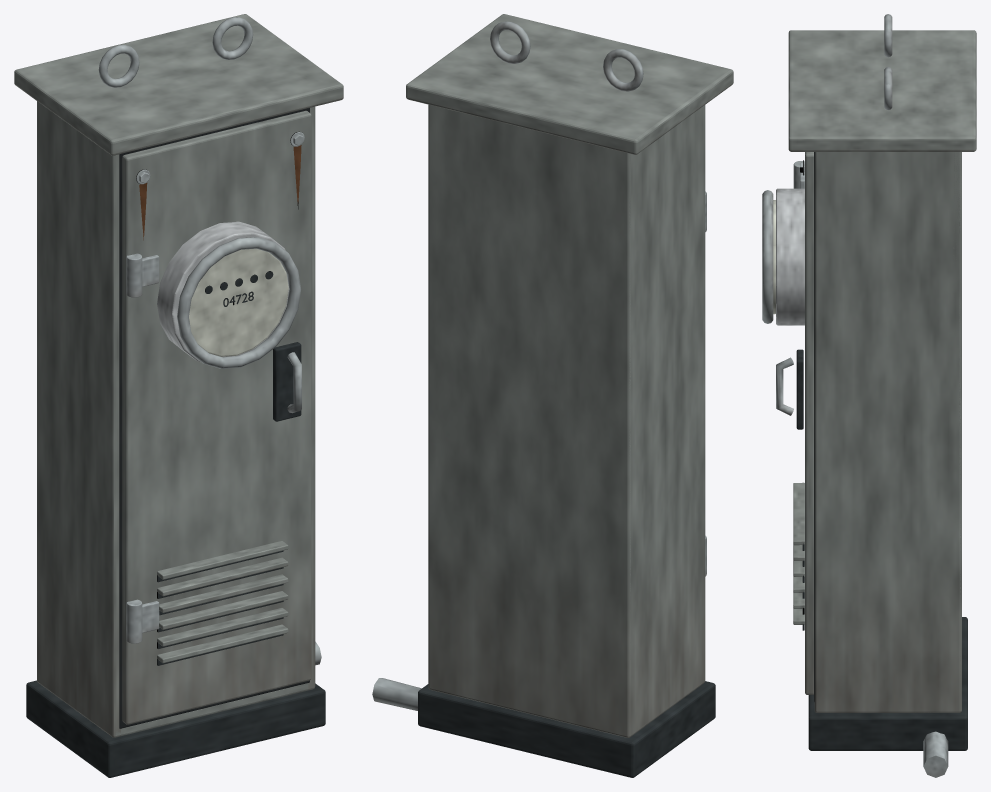
Rendered from GR_MeterPedestal_01.glb.
3 views of the same model, side by side, from view 1: azimuth 30°, elevation 25°; view 2: azimuth 150°, elevation 25°; view 3: azimuth 270°, elevation 25° (orthographic). The views are drawn at different scales.
Parts seen in each view (by area): view 1: Static; view 2: Static; view 3: Static.
Boxes of the visible parts, <box> form: Static: <box>14,14,343,777</box>; Static: <box>372,14,733,777</box>; Static: <box>762,14,976,777</box>.
Size of the model in its own units: 0.65 by 1.53 by 0.4499.
Materials: 1 (1 with a texture image).
